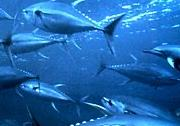Scombridae -Tunas-: (20, 0, 124, 62), (89, 51, 178, 91), (28, 111, 180, 126), (0, 61, 43, 92)
